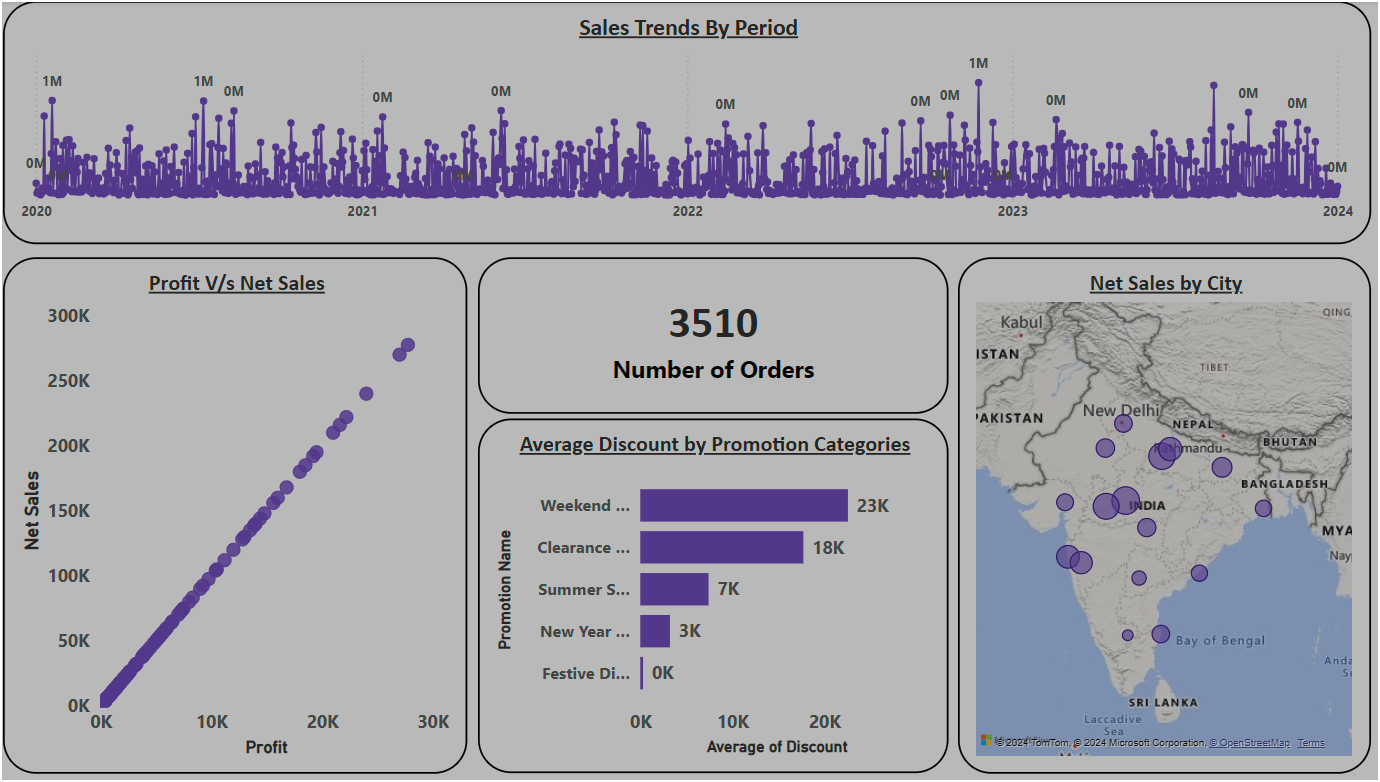

Layout of this report page (visuals, bound fields, positions):
{"tool":"powerbi","page":{"name":"Overview","canvas":[1280,720],"ordinal":0},"visuals":[{"type":"lineChart","title":"Sales Trends By Period","fields":{"Category":["Fact table.Date (dd/mm/yyyy)"],"Y":["Sum(Fact table.Net Sales  )"]},"box":[9.3,0,1237.2,219.8],"z":0},{"type":"scatterChart","title":"Profit V/s Net Sales  ","fields":{"X":["Fact table.Profit"],"Y":["Fact table.Net Sales  "]},"box":[9.3,231.4,419.8,467.4],"z":1000},{"type":"barChart","title":"Average Discount by Promotion Categories","fields":{"Y":["Avg(Fact table.Discount)"],"Category":["Dim Promotion.Promotion Name"]},"box":[438.4,377.9,425.6,320.9],"z":2000},{"type":"map","fields":{"Category":["Dim Customers.City"],"Size":["Sum(Fact table.Net Sales  )"]},"box":[873.3,231.4,373.3,467.4],"z":3000},{"type":"card","fields":{"Values":["Count(Fact table.Order ID)"]},"box":[438.4,231.4,425.6,141.9],"z":4000}]}

Visuals, with their boxes in screenshot pixels (x1, y1, x2, y2), scaled from the page's 1280x720 canvas onto the 1380x782 screenshot:
"Sales Trends By Period" lineChart: left=10, top=0, right=1344, bottom=239
"Profit V/s Net Sales  " scatterChart: left=10, top=251, right=463, bottom=759
"Average Discount by Promotion Categories" barChart: left=473, top=410, right=932, bottom=759
map - Dim Customers.City x Sum(Fact table.Net Sales  ): left=942, top=251, right=1344, bottom=759
card - Count(Fact table.Order ID): left=473, top=251, right=932, bottom=405
